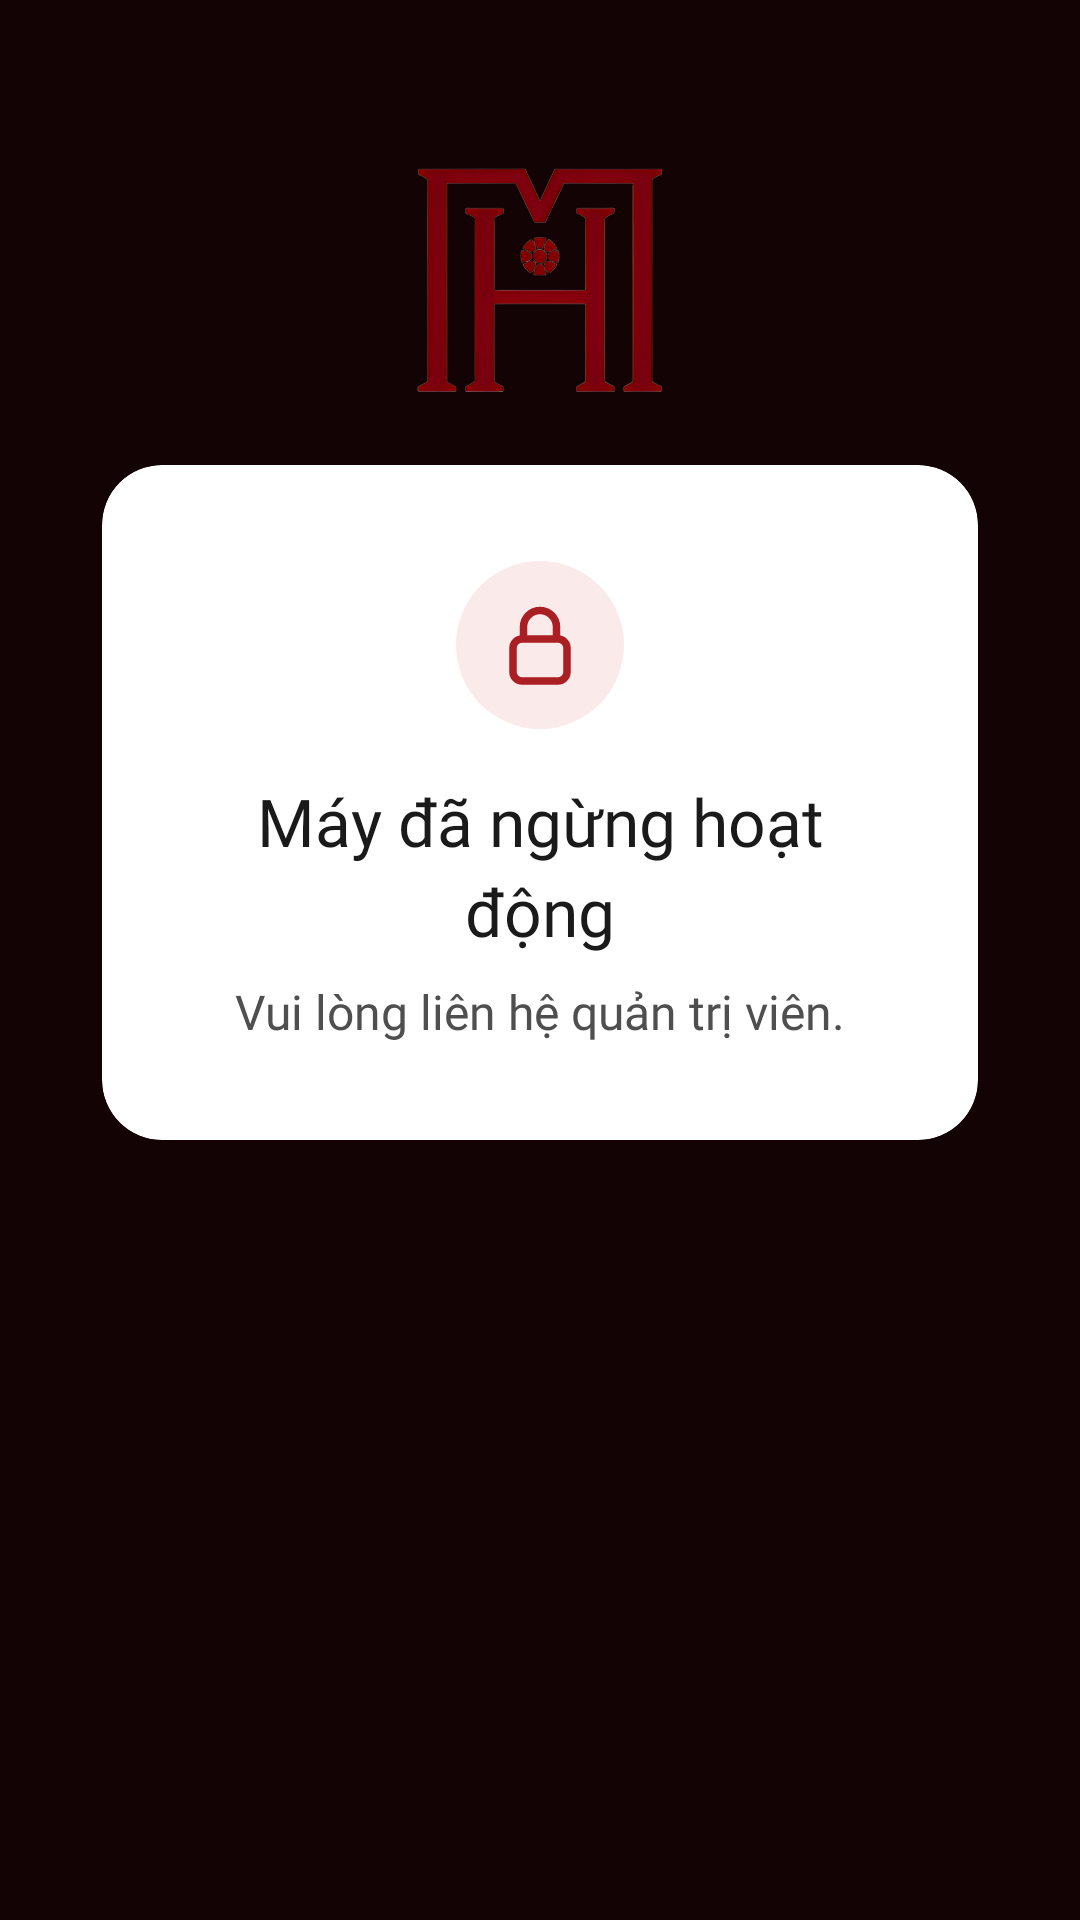

Where to tap for icons on this 1080px x 1920px app screen, as (x=x, y=y):
revoked lock: (x=540, y=645)
